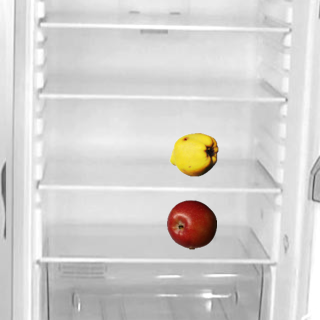Apple Braeburn: (166, 199, 216, 249)
Quince: (168, 129, 218, 179)
